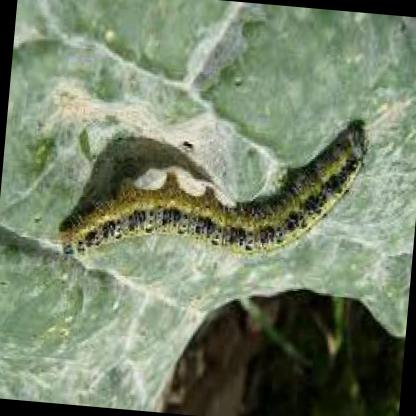pieris: (56, 122, 368, 256)
